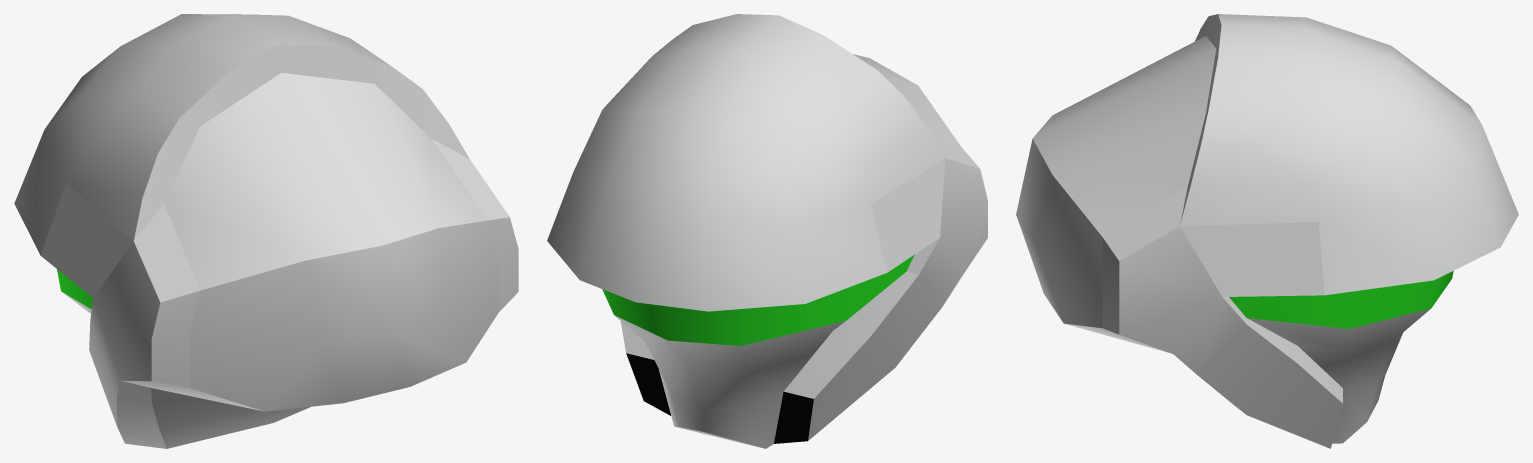
Rendered from Head.obj.
3 views of the same model, side by side, from view 1: azimuth 30°, elevation 25°; view 2: azimuth 150°, elevation 25°; view 3: azimuth 270°, elevation 25° (orthographic). The views are drawn at different scales.
Parts seen in each view (by area): view 1: Head; view 2: Head; view 3: Head.
Part boxes in pixels (left/top/right/bottom): Head: left=14, top=14, right=518, bottom=448; Head: left=547, top=14, right=987, bottom=448; Head: left=1016, top=14, right=1518, bottom=448.
Bounding box in the file's own units: 0.2167 × 0.2425 × 0.2798.
